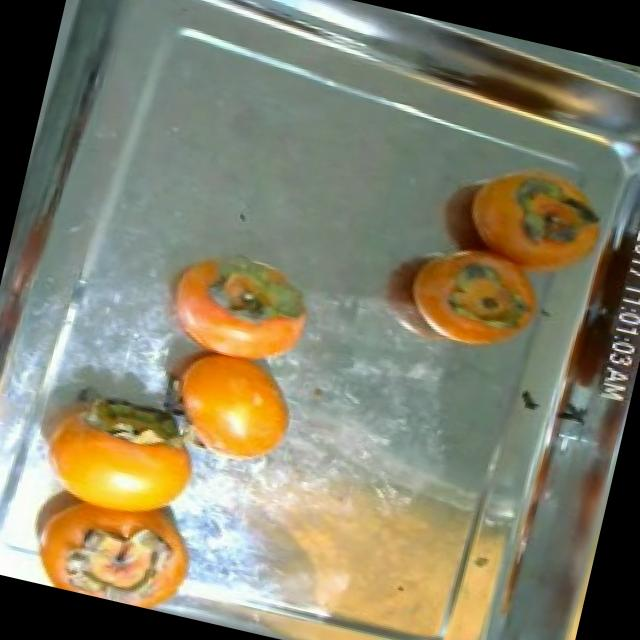Fruit: (133, 324, 321, 482), (430, 150, 620, 301), (384, 232, 564, 375)
